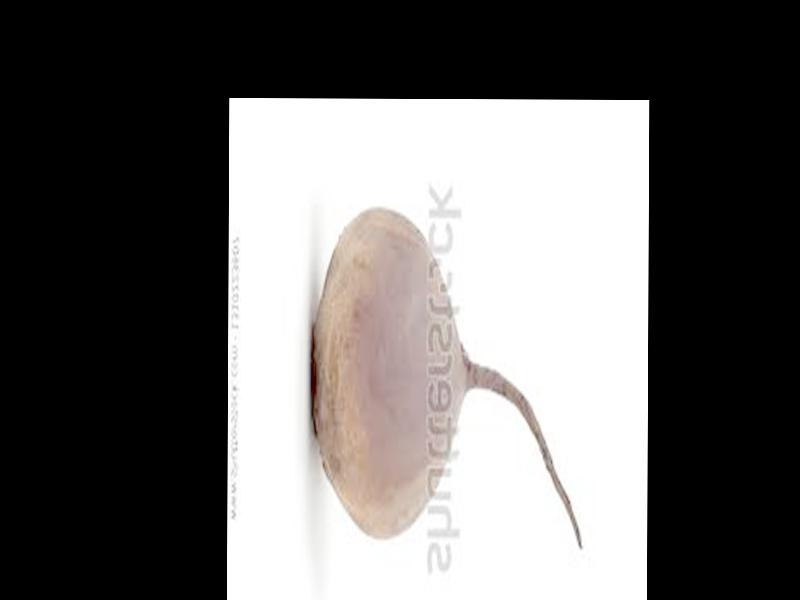Beet: (308, 203, 584, 548)
